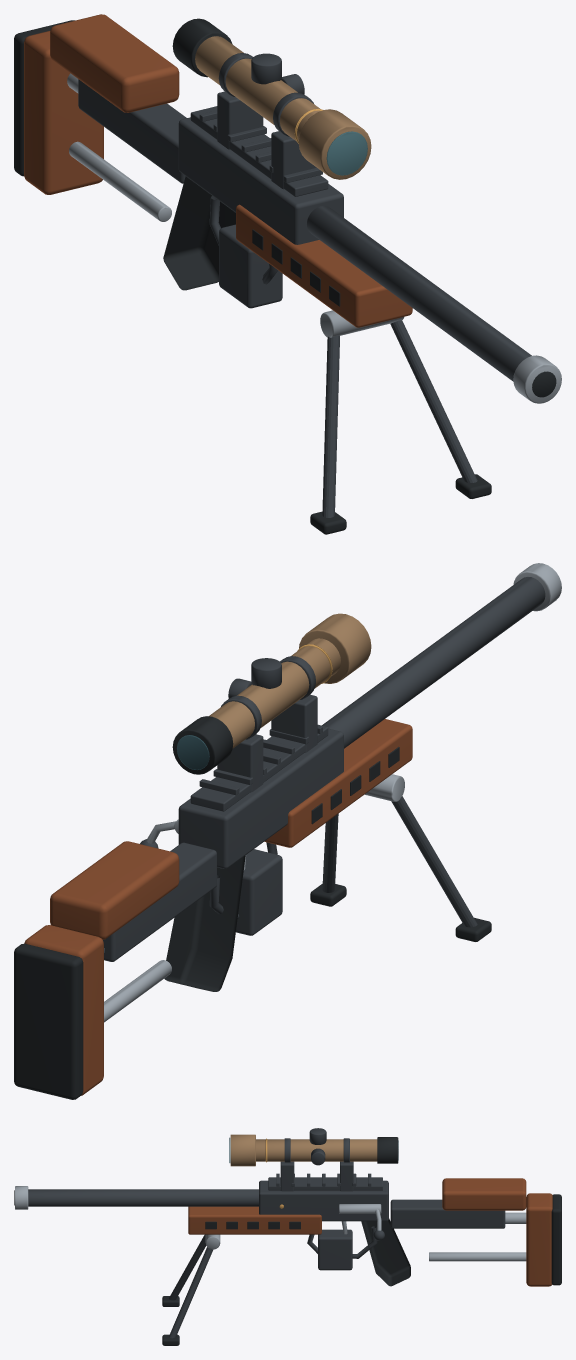
Rendered from ks-rifle-precision.glb.
3 renders of one model, top to bottom at view 1: azimuth 30°, elevation 25°; view 2: azimuth 150°, elevation 25°; view 3: azimuth 270°, elevation 25°, orthographic. The views are drawn at different scales.
Visible parts, largest first — view 1: static_batch_Graphite, static_batch_Warm_walnut, static_batch_Soft_matte_contact_pads, static_batch_Bronze_optic, static_batch_Satin_stainless_details, scope_glass_front; view 2: static_batch_Graphite, static_batch_Soft_matte_contact_pads, static_batch_Warm_walnut, static_batch_Bronze_optic, static_batch_Satin_stainless_details, scope_glass_rear; view 3: static_batch_Graphite, static_batch_Warm_walnut, static_batch_Soft_matte_contact_pads, static_batch_Bronze_optic, static_batch_Satin_stainless_details, bolt.
Part boxes in pixels (<box>): static_batch_Graphite: <box>78,53,531,517</box>; static_batch_Warm_walnut: <box>24,14,412,327</box>; static_batch_Soft_matte_contact_pads: <box>14,18,556,534</box>; static_batch_Bronze_optic: <box>195,36,371,179</box>; static_batch_Satin_stainless_details: <box>67,73,561,403</box>; scope_glass_front: <box>326,131,367,175</box>; static_batch_Graphite: <box>103,577,545,961</box>; static_batch_Soft_matte_contact_pads: <box>14,716,491,1099</box>; static_batch_Warm_walnut: <box>24,719,412,1095</box>; static_batch_Bronze_optic: <box>209,613,371,748</box>; static_batch_Satin_stainless_details: <box>104,563,561,1022</box>; scope_glass_rear: <box>176,735,209,769</box>; static_batch_Graphite: <box>28,1128,505,1338</box>; static_batch_Warm_walnut: <box>188,1178,552,1286</box>; static_batch_Soft_matte_contact_pads: <box>14,1137,561,1345</box>; static_batch_Bronze_optic: <box>230,1134,377,1166</box>; static_batch_Satin_stainless_details: <box>15,1186,526,1261</box>; bolt: <box>339,1204,381,1213</box>.
Bounding box in the file's own units: 0.278 × 0.556 × 1.43.
